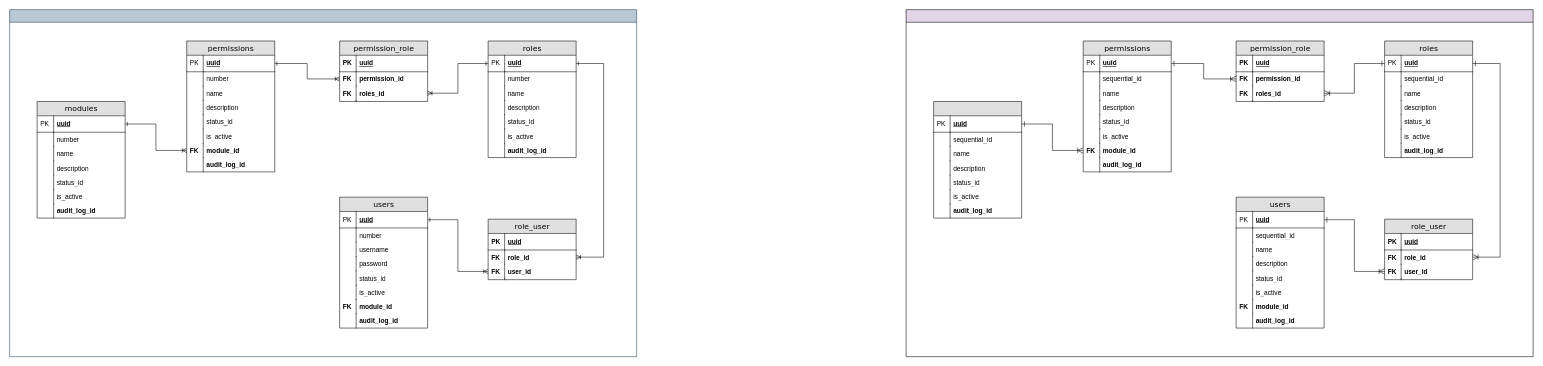
This 1543x366 diagram has some shape labels left out. The box of each missing label's shape, as (x1, y1, x2, y2) in pixels:
Schema : authentication: (9, 9, 637, 357)
Schema : inventory: (906, 9, 1533, 357)
vehicles: (933, 101, 1022, 218)
